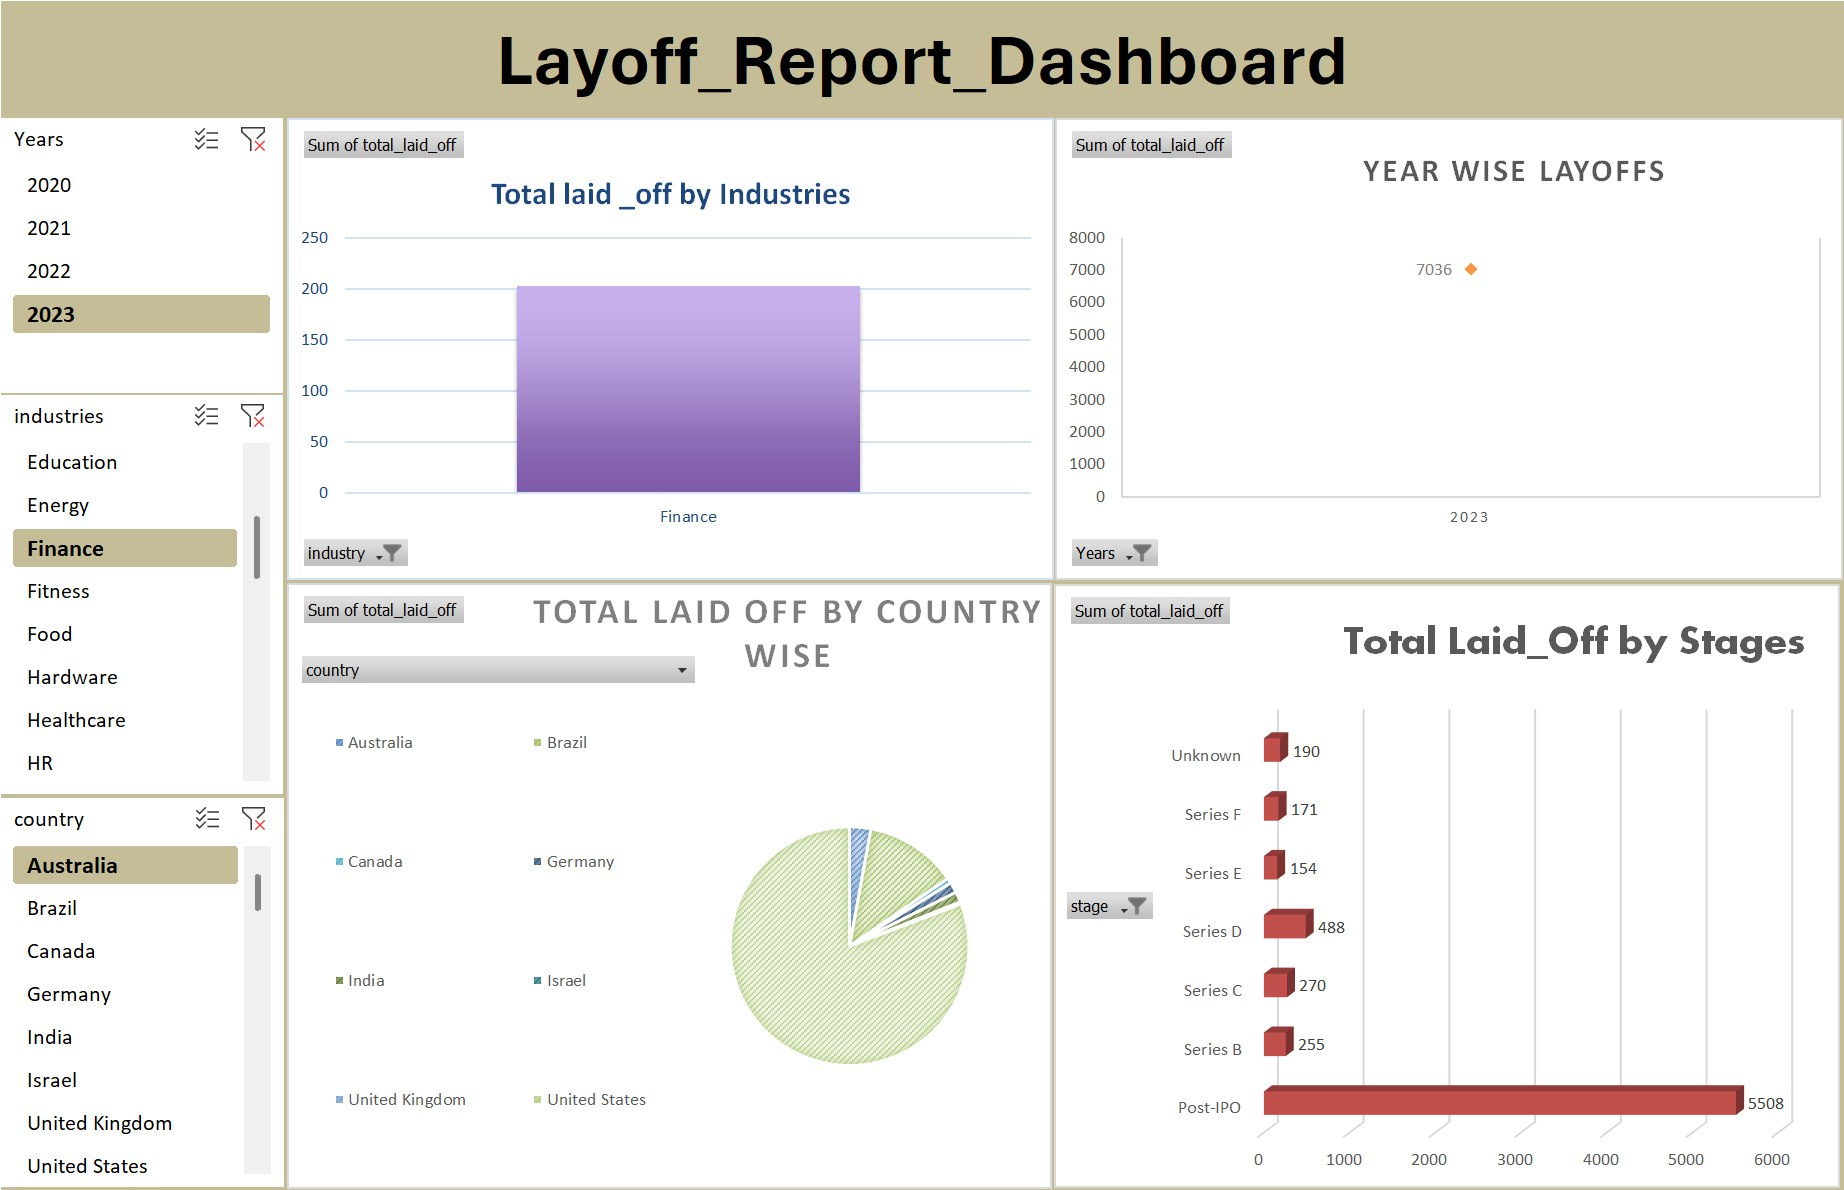

The dashboard page shown, as its layout file describes it:
{"tool":"tableau","page":{"name":"Dashboard 2","canvas":[1000,1000],"units":"permille","ordinal":1},"visuals":[{"type":"text","box":[5,10.7,73.6,978.6]},{"type":"worksheet","title":"Sheet 4","mark":"Bar","rows":["total_laid_off"],"cols":["industry"],"box":[78.5,10.7,578.6,489.3]},{"type":"worksheet","title":"Sheet 6","mark":"Pie","box":[657.1,10.7,337.9,489.3]},{"type":"worksheet","title":"Sheet 5","mark":"Bar","rows":["total_laid_off"],"cols":["stage"],"box":[78.5,500,282.4,489.3]},{"type":"worksheet","title":"Sheet 1","mark":"Line","rows":["total_laid_off"],"cols":["Years"],"box":[361,500,634,489.3]}]}

Visuals, with their boxes on the dashboard's canvas, which has no fixed pixel size, in thousandths of its width and height (x1, y1, x2, y2). These are canvas units, not pixel positions in the 1844x1190 screenshot, which may show the page scaled, cropped or inside an application window:
text: left=5, top=11, right=79, bottom=989
"Sheet 4" worksheet (Bar marks): left=78, top=11, right=657, bottom=500
"Sheet 6" worksheet (Pie marks): left=657, top=11, right=995, bottom=500
"Sheet 5" worksheet (Bar marks): left=78, top=500, right=361, bottom=989
"Sheet 1" worksheet (Line marks): left=361, top=500, right=995, bottom=989
